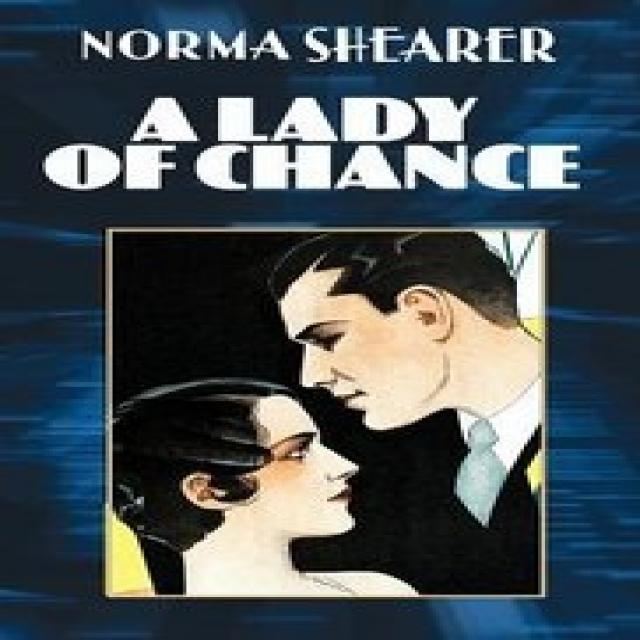movie-judul: (28, 17, 604, 215)
picture: (114, 227, 546, 594)
